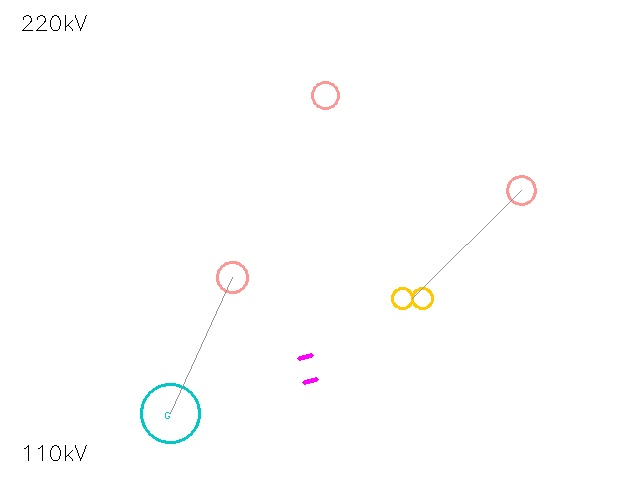capacitor: (288, 349, 328, 389)
disconnect_switch: (299, 69, 351, 121)
generator: (141, 384, 199, 442)
reactor: (202, 247, 262, 307), (493, 162, 549, 218)
transformer_2w: (387, 273, 437, 323)
